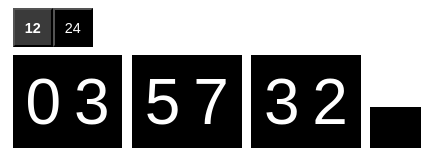
Test: Clock hides meridiem on click of 24 hr format setting
Click the button "24". click: (73, 28)
box: [53,8,93,47]
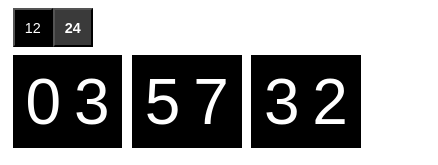
Result: the text "AM" is gone
